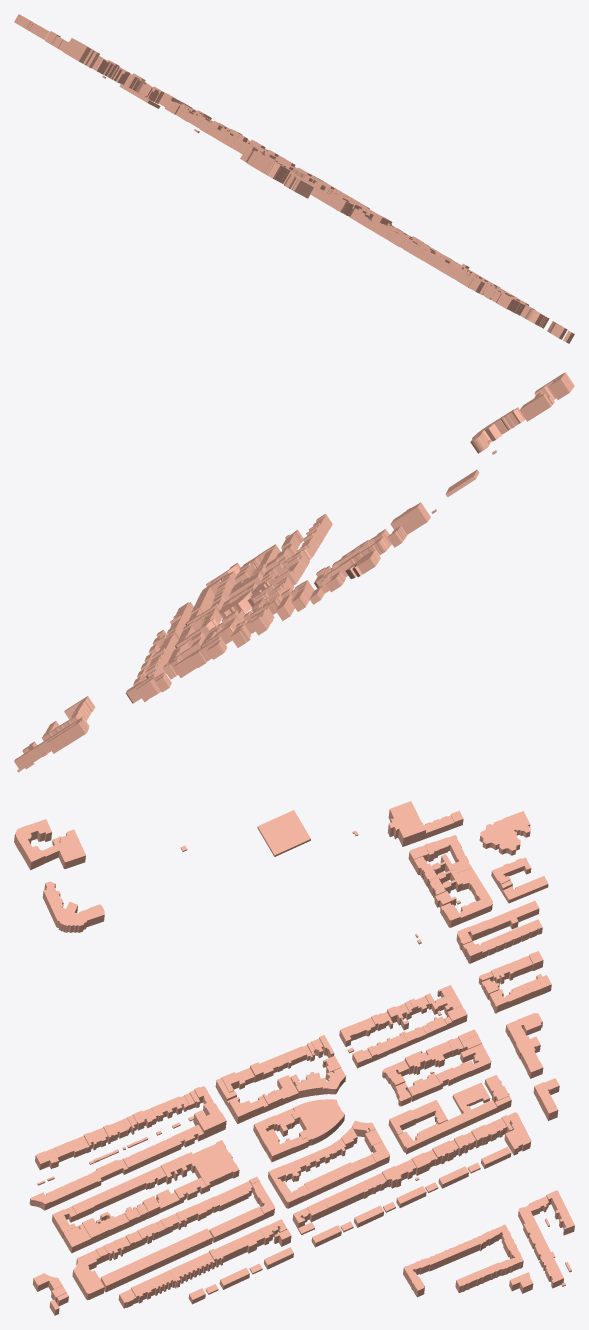
The picture shows the model from 3 angles, top to bottom: view 1: azimuth 30°, elevation 25°; view 2: azimuth 150°, elevation 25°; view 3: azimuth 270°, elevation 25°; orthographic projection. The views are drawn at different scales.
Size of the model in its own units: 544 by 402 by 637.
